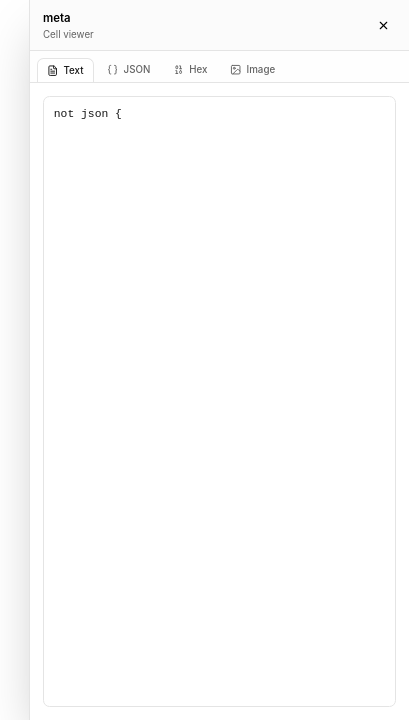
Test: CellViewerPanel › JSON tab reports invalid JSON
Click the button "JSON". click: (129, 70)
box: [98,58,160,81]
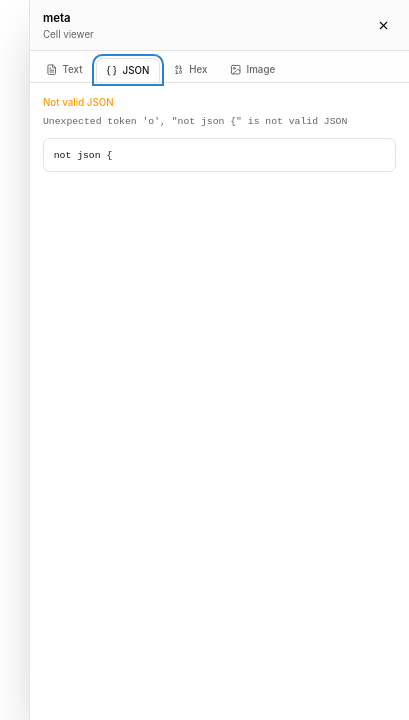
Check: the text "Not valid JSON" is shown, box [43,97,114,108]
